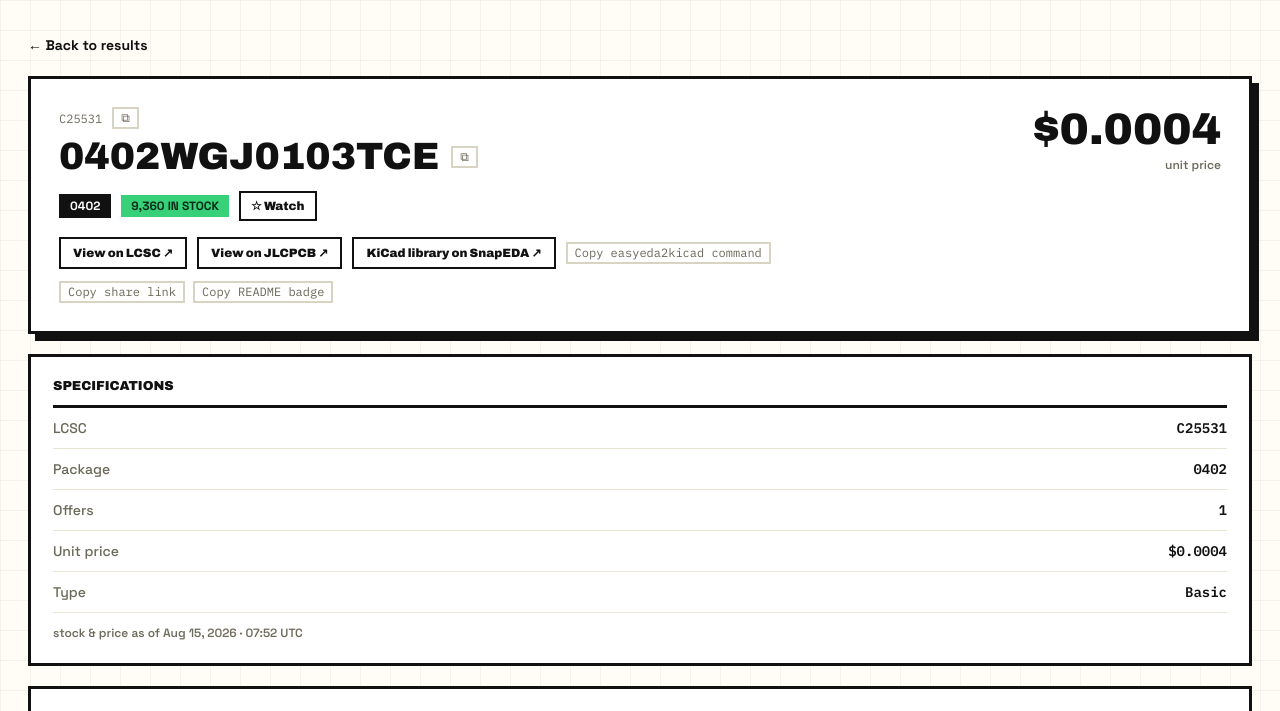
it: copies a README badge for the part
The image size is (1280, 711).
Click the button "Copy README badge" at {"x": 263, "y": 292}, box [193,281,333,303]
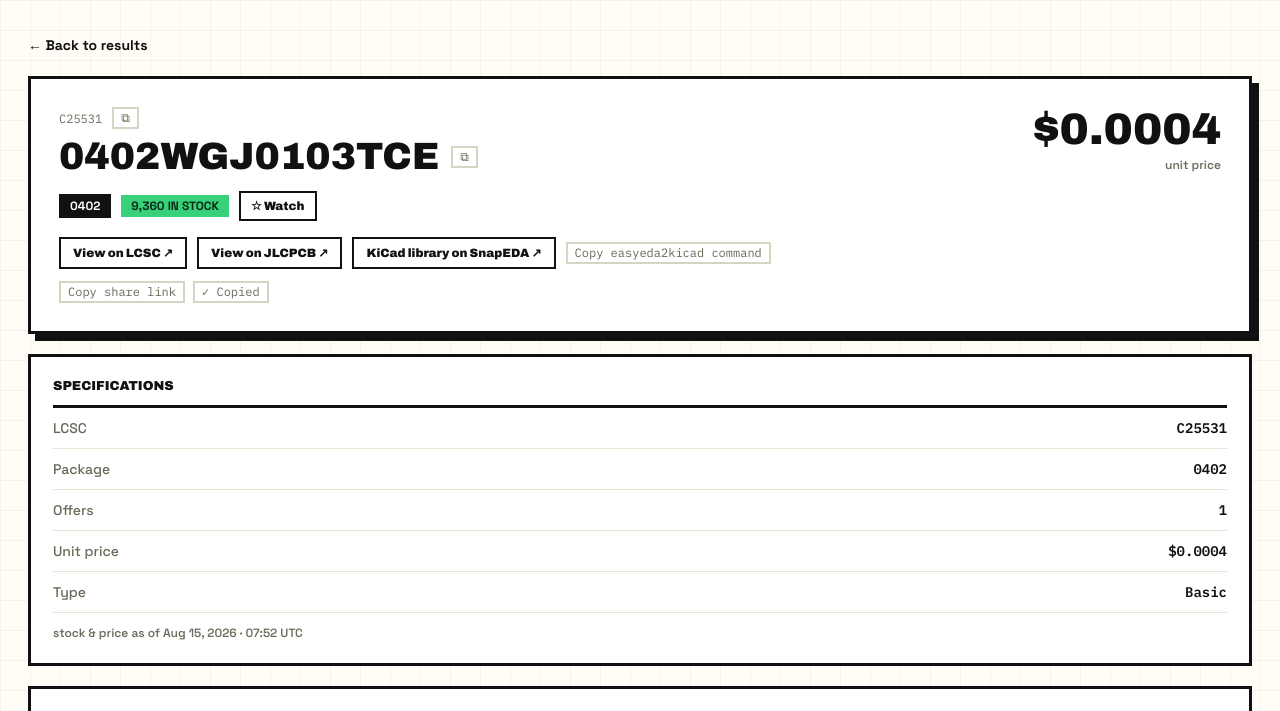
Result: the button "✓ Copied" is shown at [193,281,269,303]
